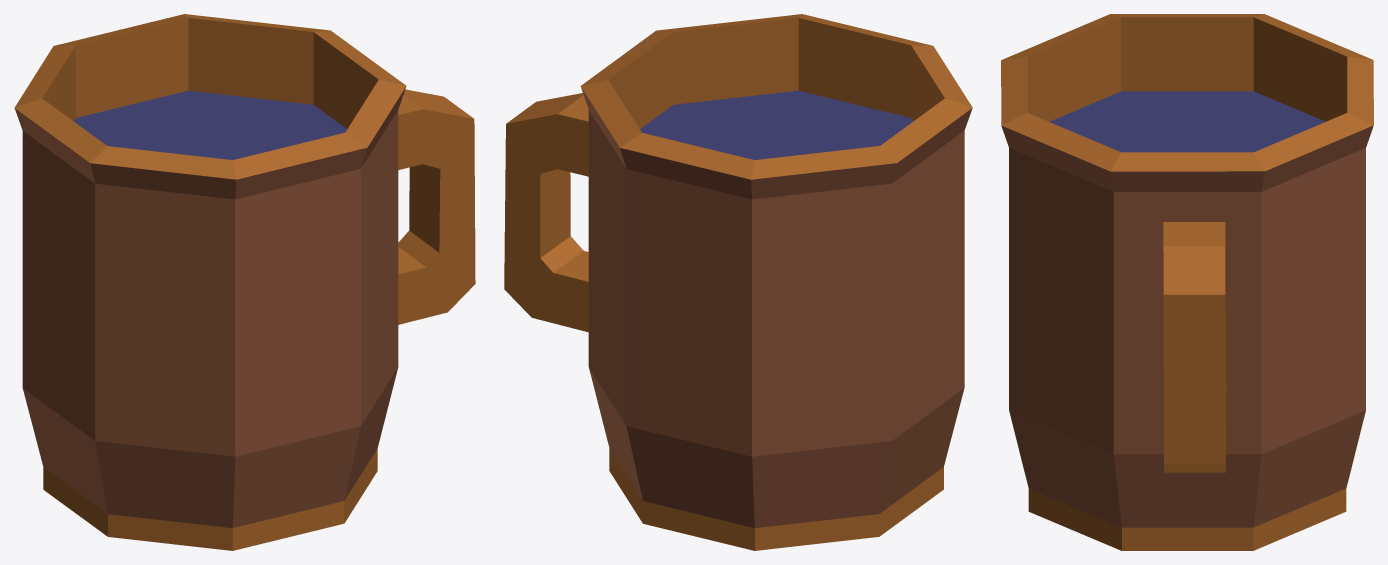
Rendered from mug_water.fbx.
3 renders of one model, left to right at view 1: azimuth 30°, elevation 25°; view 2: azimuth 150°, elevation 25°; view 3: azimuth 270°, elevation 25°, orthographic.
Visible parts, largest first — view 1: Circle.003; view 2: Circle.003; view 3: Circle.003.
Boxes of the visible parts, box(x1,y1,x2,y2) form: Circle.003: box(14, 14, 475, 550); Circle.003: box(504, 14, 972, 550); Circle.003: box(1001, 14, 1373, 550).
Bounding box in the file's own units: 24.47 × 22.21 × 18.81.
